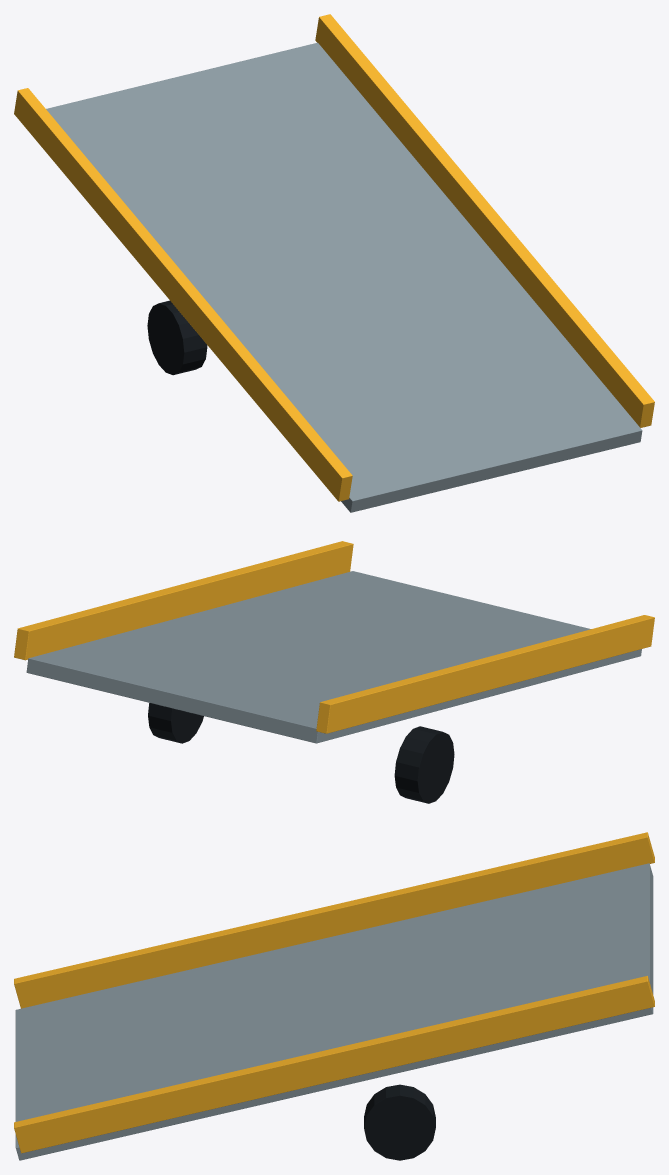
The model's file is edited.glb.
3 views of the same model, one above another, from view 1: azimuth 30°, elevation 25°; view 2: azimuth 150°, elevation 25°; view 3: azimuth 270°, elevation 25° (orthographic). The views are drawn at different scales.
Visible parts, largest first — view 1: RAMP_Deck, GUARD.001, GUARD, WHEEL; view 2: RAMP_Deck, GUARD, GUARD.001, WHEEL, WHEEL.001; view 3: RAMP_Deck, GUARD.001, GUARD, WHEEL.001.
Boxes of the visible parts, left/top/right/bottom form: RAMP_Deck: left=46, top=42, right=642, bottom=512; GUARD.001: left=315, top=14, right=654, bottom=427; GUARD: left=14, top=88, right=352, bottom=501; WHEEL: left=147, top=300, right=207, bottom=375; RAMP_Deck: left=26, top=571, right=641, bottom=743; GUARD: left=316, top=615, right=654, bottom=733; GUARD.001: left=14, top=541, right=353, bottom=660; WHEEL: left=394, top=726, right=454, bottom=803; WHEEL.001: left=148, top=703, right=203, bottom=743; RAMP_Deck: left=15, top=863, right=653, bottom=1160; GUARD.001: left=14, top=976, right=654, bottom=1153; GUARD: left=14, top=832, right=654, bottom=1008; WHEEL.001: left=364, top=1084, right=435, bottom=1160.
Size of the model in its own units: 2.16 by 1.28 by 3.92.
